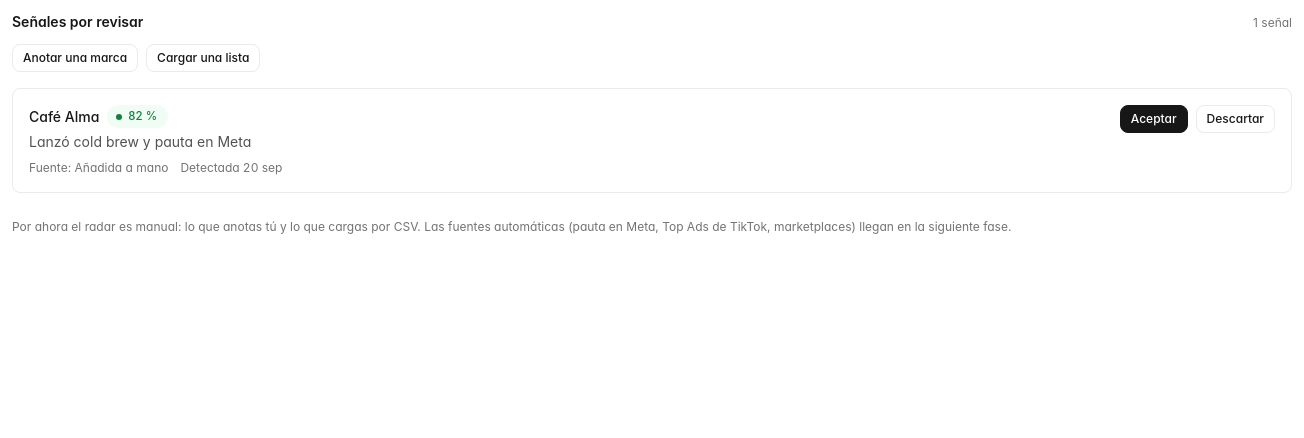
it: Radar › descartar pide el motivo y muestra el error del servidor en su campo
The width and height of the screenshot is (1304, 438).
Step 1. Click the button with aria-label "Descartar: Café Alma" → (1235, 119), box [1196,105,1275,133]
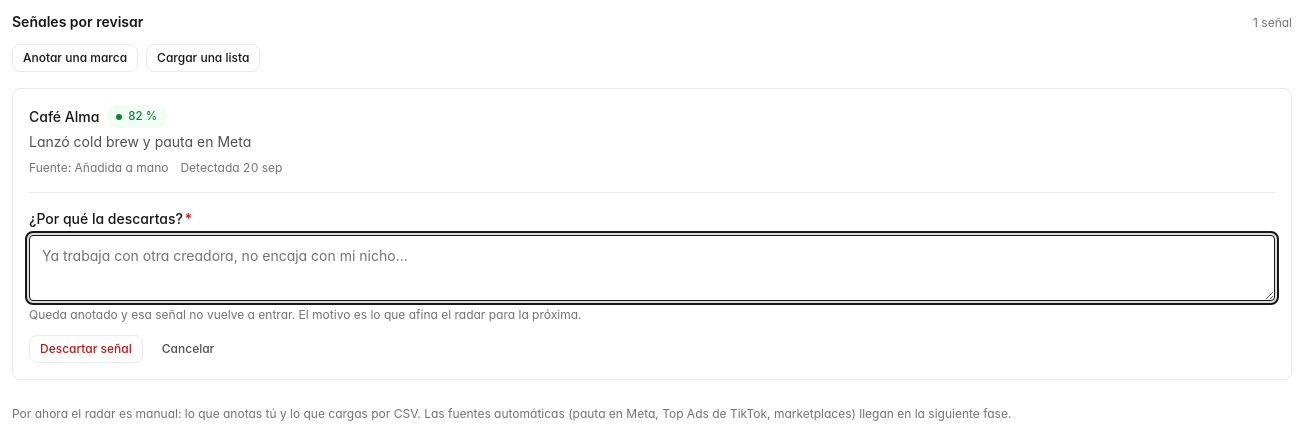
Step 2. Click the button "Descartar señal" → (86, 349), box [29,335,143,363]
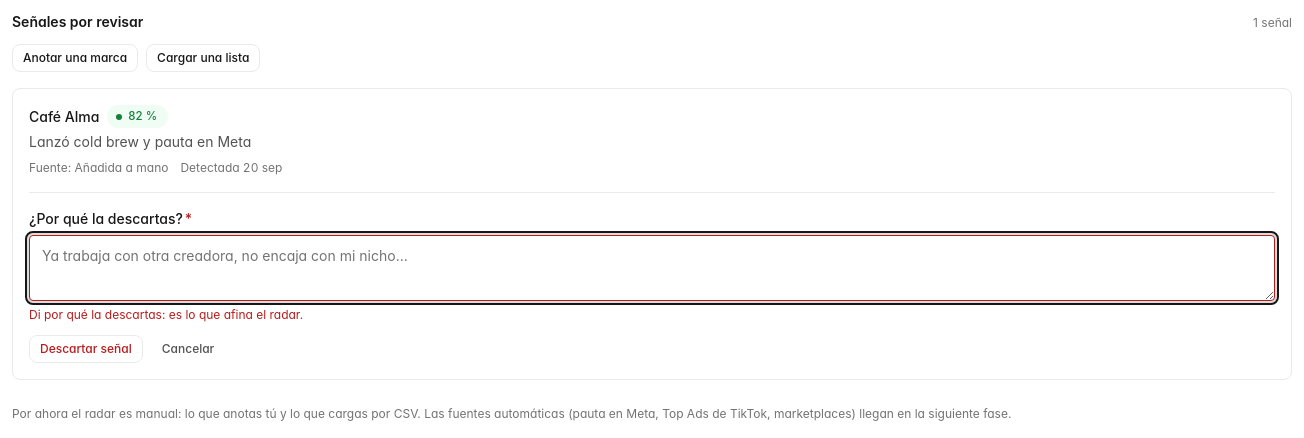
Expected: the message shows "Di por qué la descartas", [29,307,303,322]
